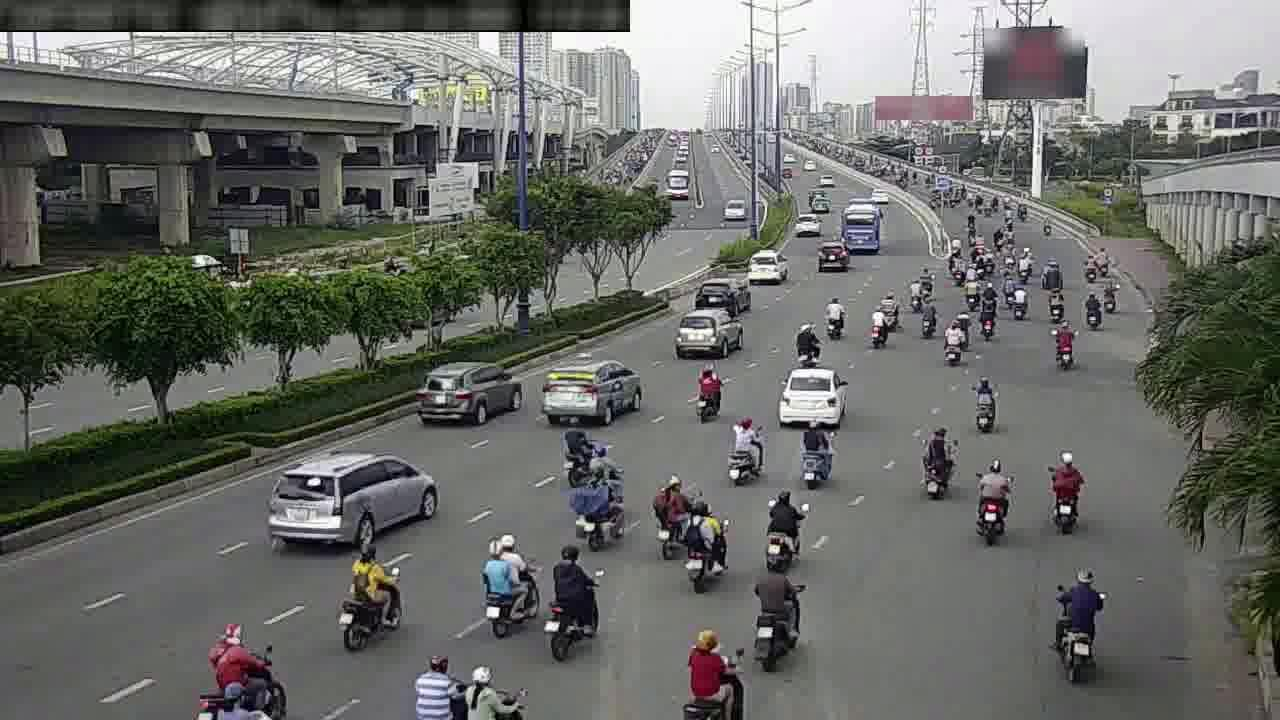car: (272, 440, 441, 545), (541, 352, 643, 421), (422, 357, 523, 426), (775, 361, 848, 425), (674, 304, 739, 358), (695, 272, 749, 315), (743, 245, 790, 286), (814, 238, 849, 271)
motorbike: (201, 619, 286, 714), (335, 542, 406, 645), (474, 534, 540, 636), (543, 545, 604, 649), (1048, 562, 1105, 669), (746, 564, 806, 662), (679, 622, 744, 711), (411, 651, 497, 713), (442, 654, 526, 714), (567, 463, 625, 547), (678, 499, 730, 588), (650, 472, 698, 556), (1040, 446, 1087, 527), (969, 455, 1013, 539), (758, 485, 804, 565), (914, 426, 956, 500), (723, 415, 765, 487), (793, 418, 835, 488), (556, 415, 598, 479), (687, 363, 725, 423), (967, 373, 1002, 433), (790, 317, 823, 368), (1047, 319, 1078, 370), (862, 302, 892, 353), (937, 318, 966, 367), (819, 293, 849, 340), (974, 295, 1000, 341), (913, 296, 940, 340), (1079, 290, 1106, 333), (1041, 281, 1068, 323), (878, 286, 904, 328), (1005, 279, 1030, 322), (1098, 272, 1122, 313), (902, 273, 926, 312), (1079, 246, 1104, 282), (959, 274, 982, 311), (1035, 255, 1058, 289), (1014, 246, 1033, 281), (945, 250, 964, 284)
